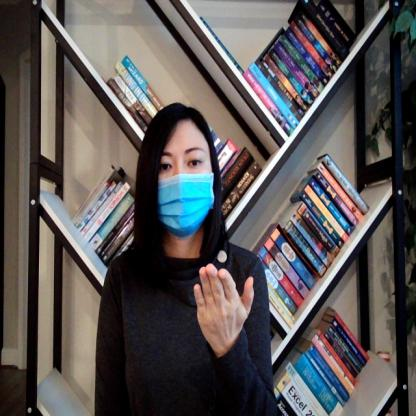thanks: (191, 259, 259, 355)
